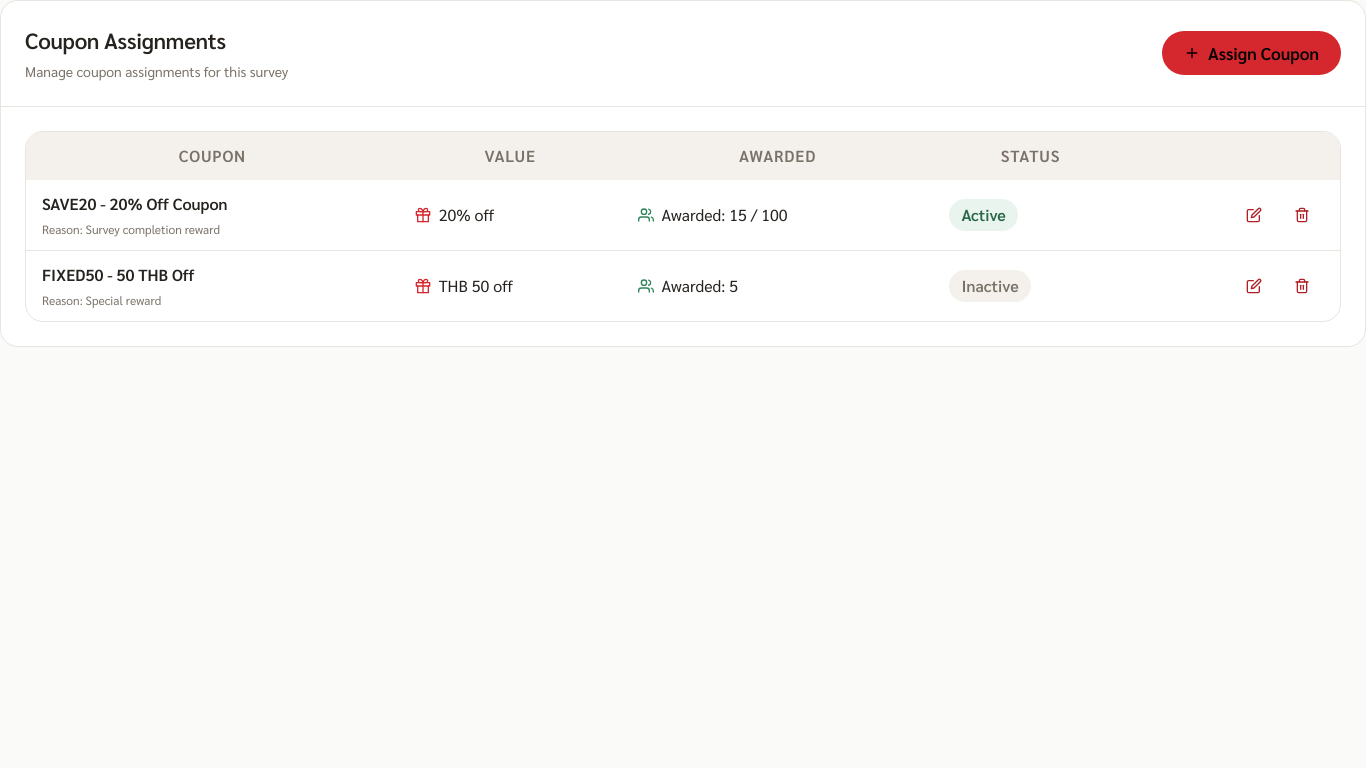
Test case: SurveyCouponAssignments › EditAssignmentModal › should close modal on cancel
Expected: the text "SAVE20 - 20% Off Coupon" is shown, [42, 193, 228, 214]
Click the button titled "Edit" in the row of "SAVE20" at {"x": 1254, "y": 215}, box [1232, 193, 1276, 237]
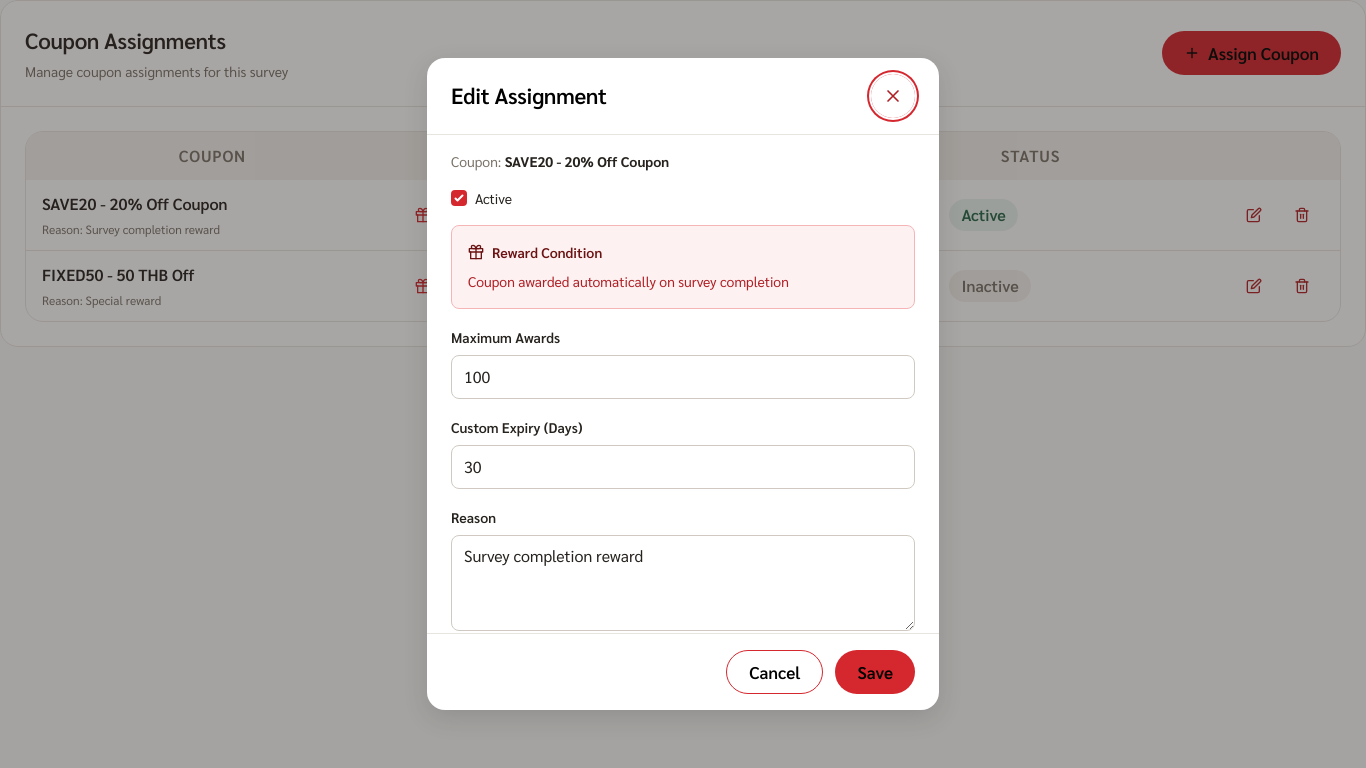
Now the heading "Edit Assignment" is shown, box [451, 80, 607, 112]
Click the button "Cancel" at {"x": 775, "y": 672}, box [726, 650, 823, 694]
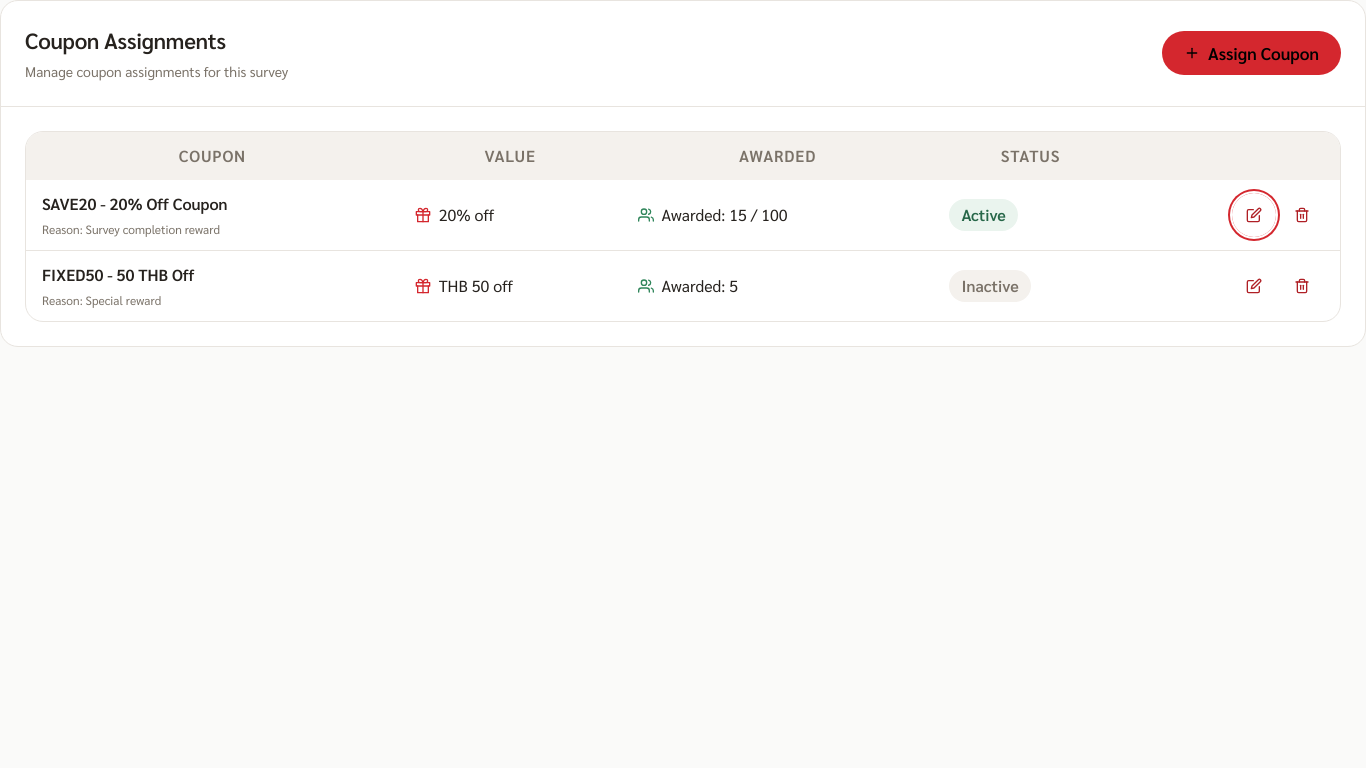
Now the heading "Edit Assignment" is gone
